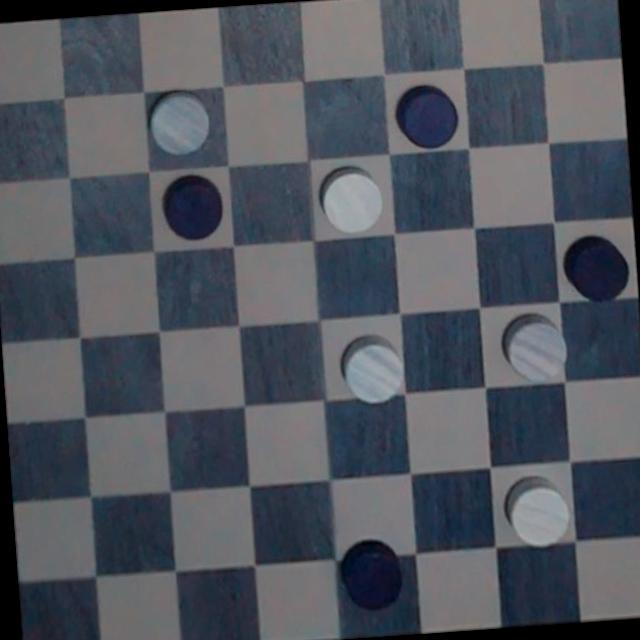BOARD: (0, 0, 640, 640)
black: (561, 202, 633, 314), (150, 166, 235, 256), (336, 527, 410, 613), (391, 72, 470, 150)
white: (492, 454, 576, 554), (490, 310, 580, 396), (330, 325, 412, 413), (309, 161, 392, 241), (142, 80, 218, 164)
